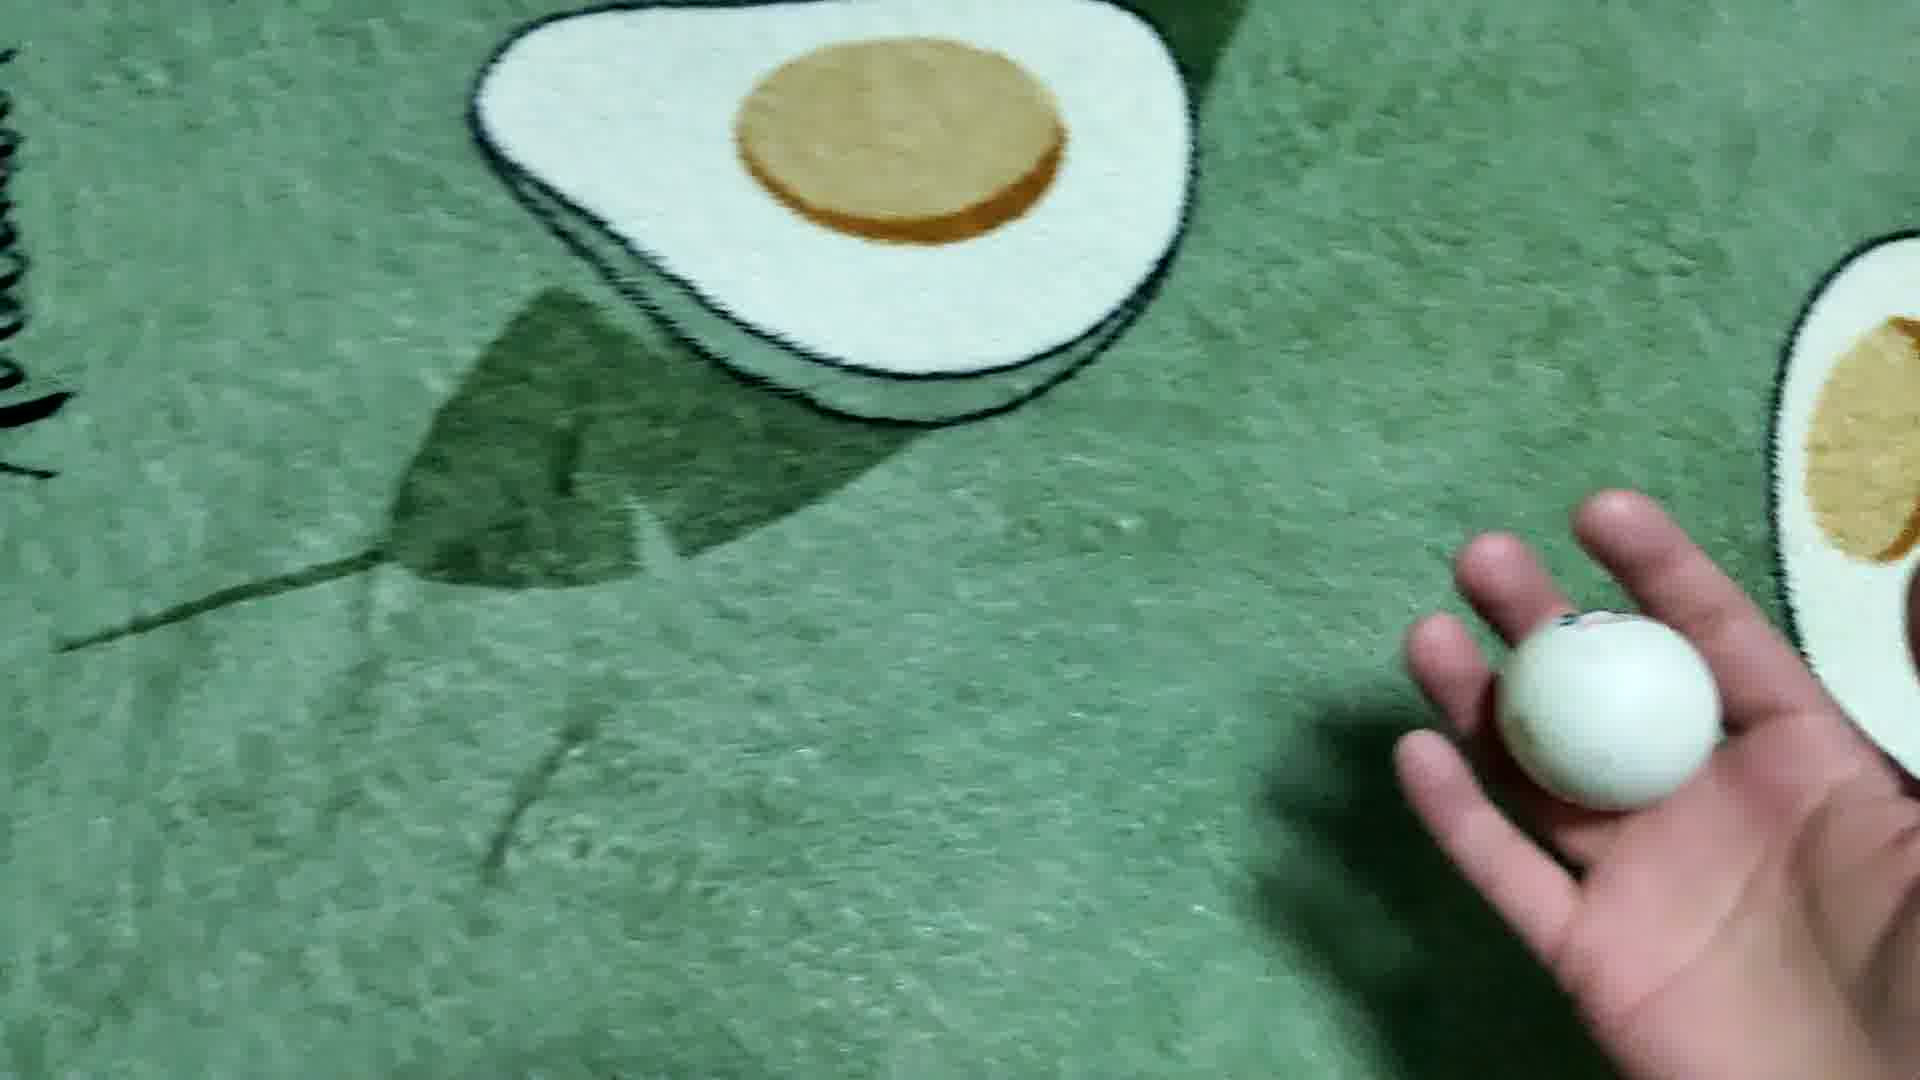Ball: (1501, 611, 1722, 811)
